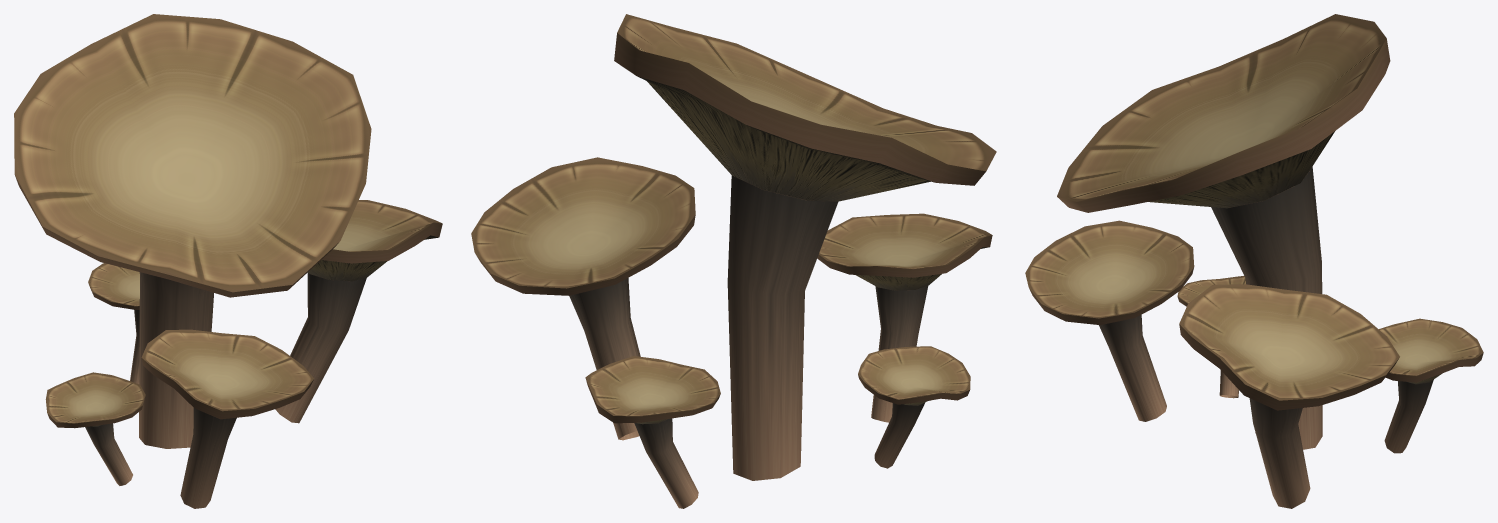
Rendered from VEG0110013.fbx.
The picture shows the model from 3 angles, left to right: view 1: azimuth 30°, elevation 25°; view 2: azimuth 150°, elevation 25°; view 3: azimuth 270°, elevation 25°; orthographic projection. The views are drawn at different scales.
Visible parts, largest first — view 1: smVEG0110013; view 2: smVEG0110013; view 3: smVEG0110013.
Boxes of the visible parts, box(x1,y1,x2,y2) form: smVEG0110013: box(14, 14, 442, 508); smVEG0110013: box(471, 14, 996, 508); smVEG0110013: box(1025, 14, 1483, 508).
Bounding box in the file's own units: 41.67 × 37.39 × 38.03.
1 material, 1 textured.
